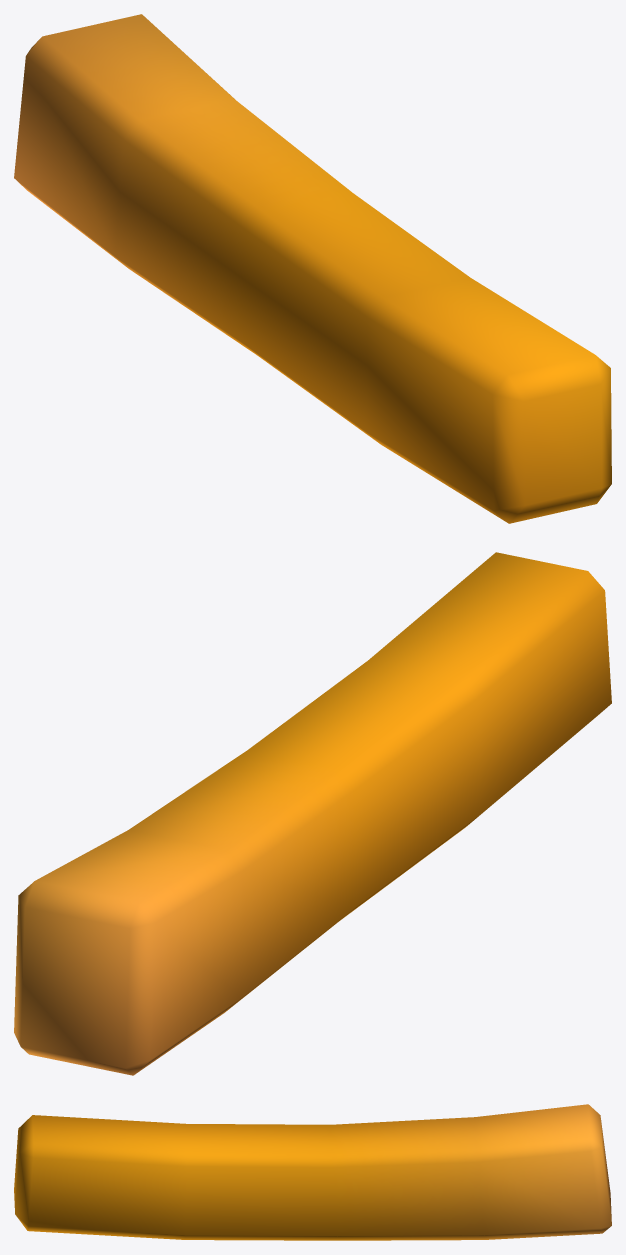
Rendered from fries_003.fbx.
3 views of the same model, one above another, from view 1: azimuth 30°, elevation 25°; view 2: azimuth 150°, elevation 25°; view 3: azimuth 270°, elevation 25° (orthographic). The views are drawn at different scales.
Visible parts, largest first — view 1: fries_003; view 2: fries_003; view 3: fries_003.
Part boxes in pixels (<box>): fries_003: <box>14,14,611,523</box>; fries_003: <box>14,552,611,1075</box>; fries_003: <box>14,1104,611,1240</box>.
Size of the model in its own units: 1.79 by 10.97 by 2.16.
